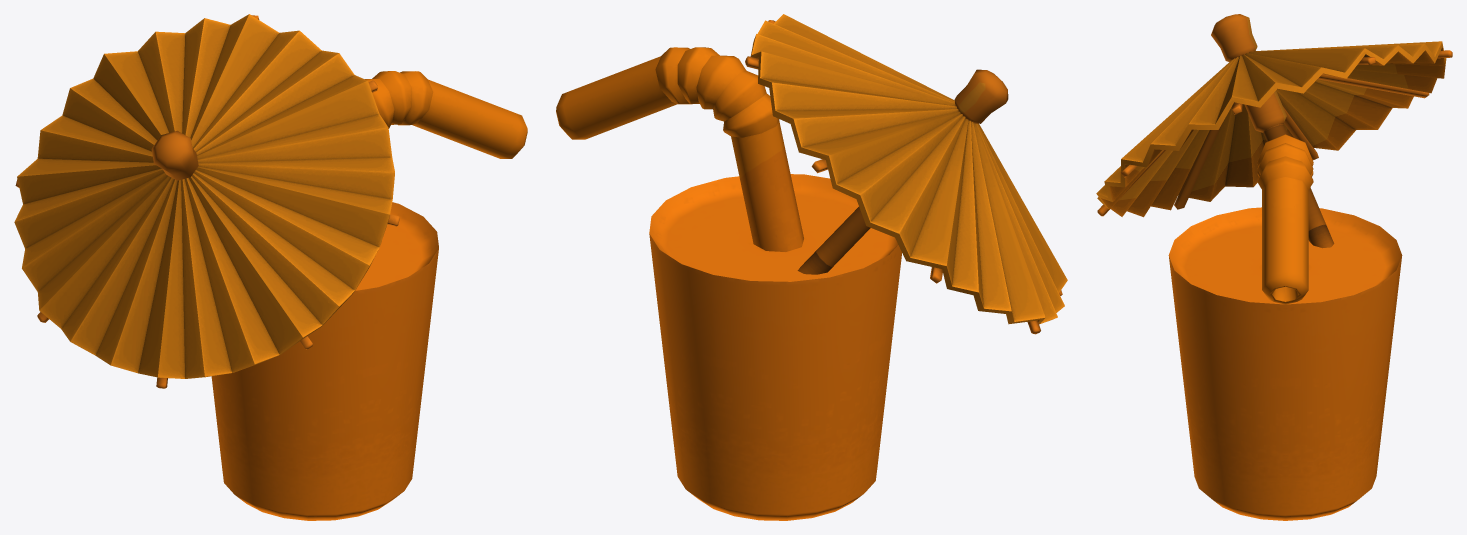
File: Web_Smoothie_Mix_Sunrise.obj
The picture shows the model from 3 angles, left to right: view 1: azimuth 30°, elevation 25°; view 2: azimuth 150°, elevation 25°; view 3: azimuth 270°, elevation 25°; orthographic projection. The views are drawn at different scales.
Visible parts, largest first — view 1: m_recipe_megaSmoothie_01(Clone)_0; view 2: m_recipe_megaSmoothie_01(Clone)_0; view 3: m_recipe_megaSmoothie_01(Clone)_0.
Part boxes in pixels (x1,y1,x2,y2): m_recipe_megaSmoothie_01(Clone)_0: (14,14,527,520); m_recipe_megaSmoothie_01(Clone)_0: (556,14,1067,520); m_recipe_megaSmoothie_01(Clone)_0: (1096,14,1452,520).
Bounding box in the file's own units: 1.11 × 1.01 × 0.7635.
Materials: 1 (1 with a texture image).
